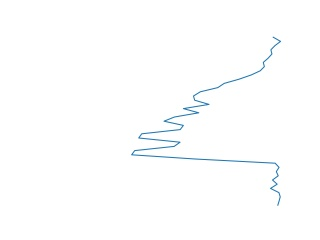proximalDeepseaFan: (128, 34, 288, 207)
